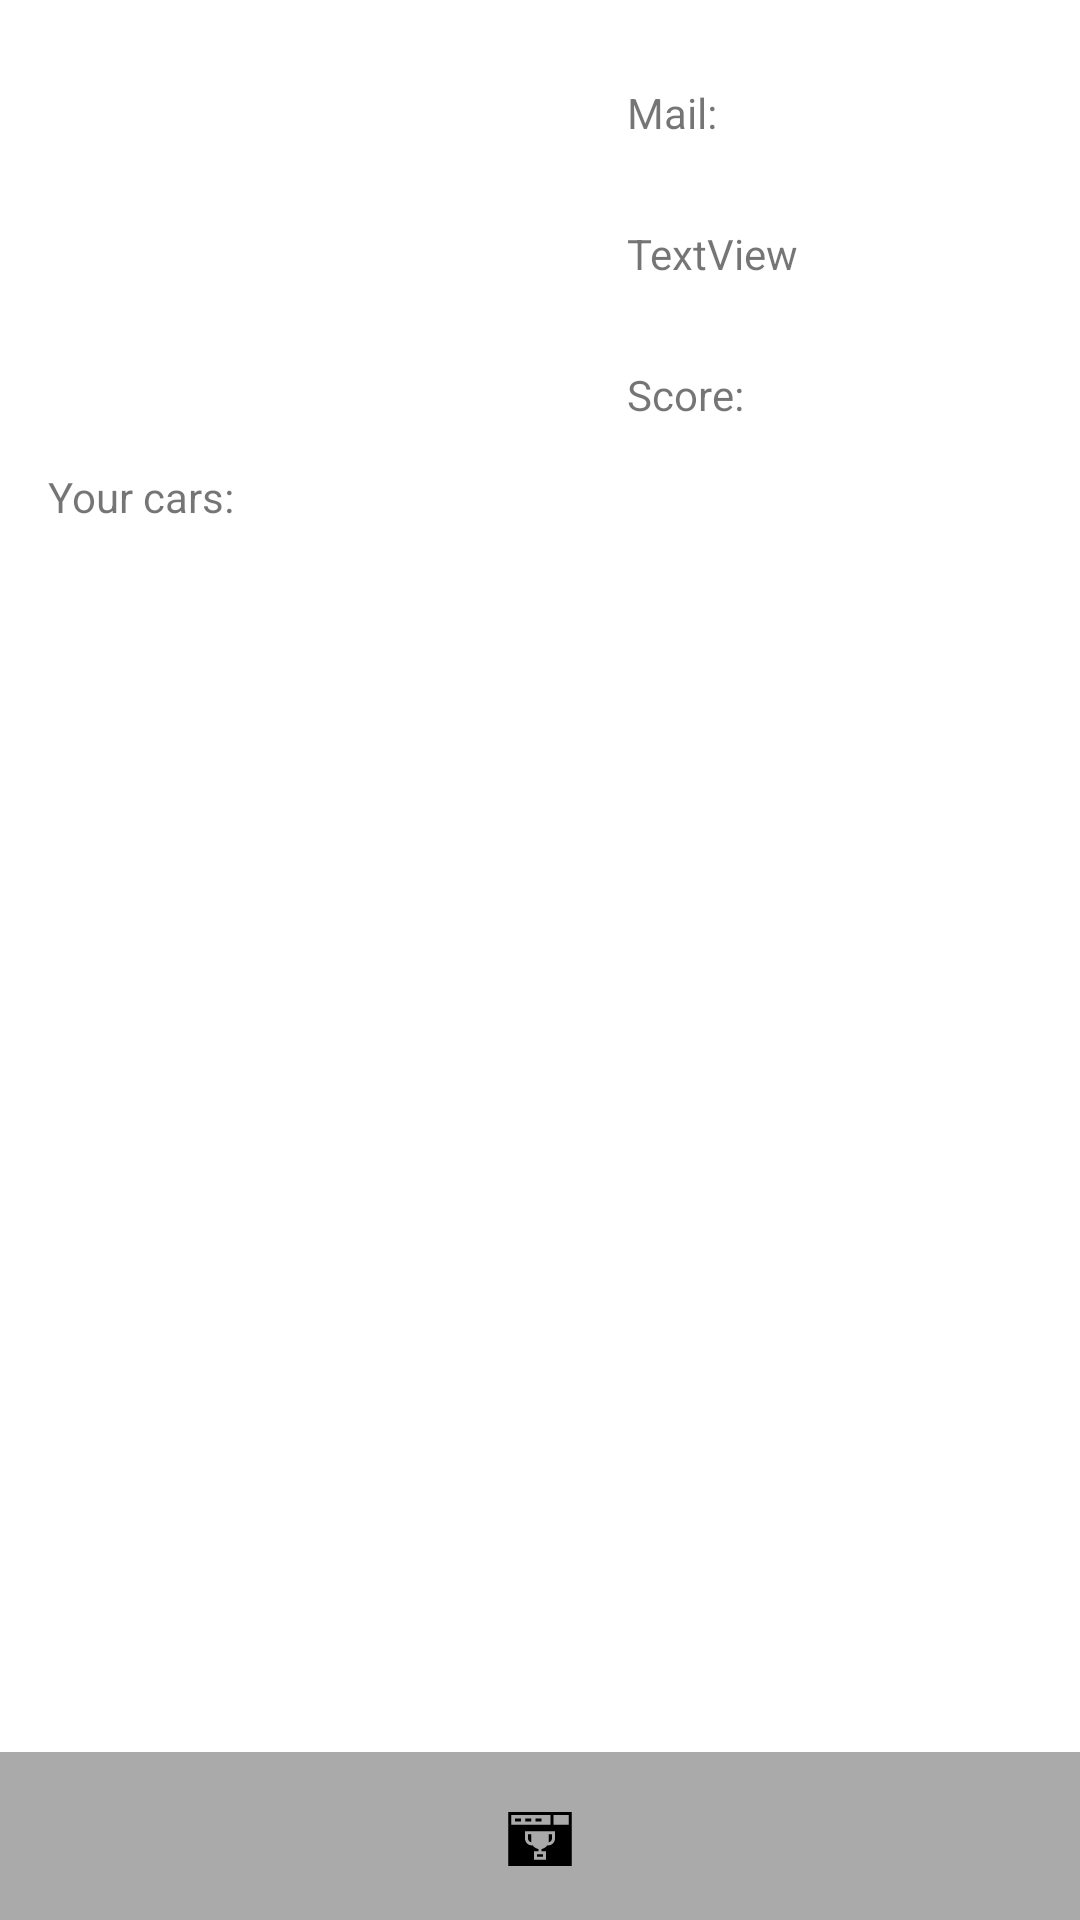

Named icons in this screenshot (1080x1920) and their centers, (x,y):
leaderboard: (540,1839)
